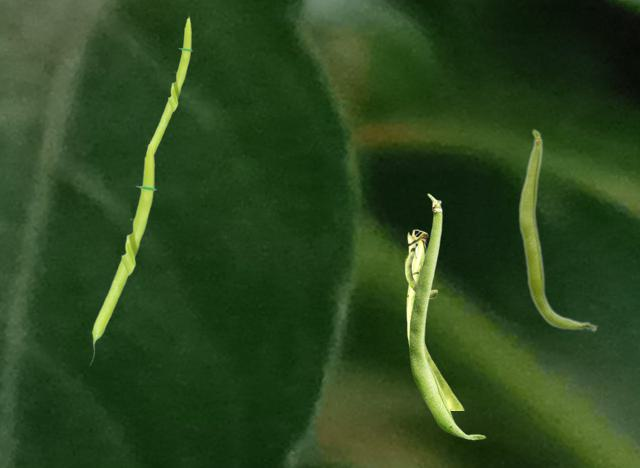french_bean: (409, 193, 485, 439), (517, 128, 597, 331), (89, 138, 156, 365), (404, 229, 463, 409), (151, 14, 192, 153)
